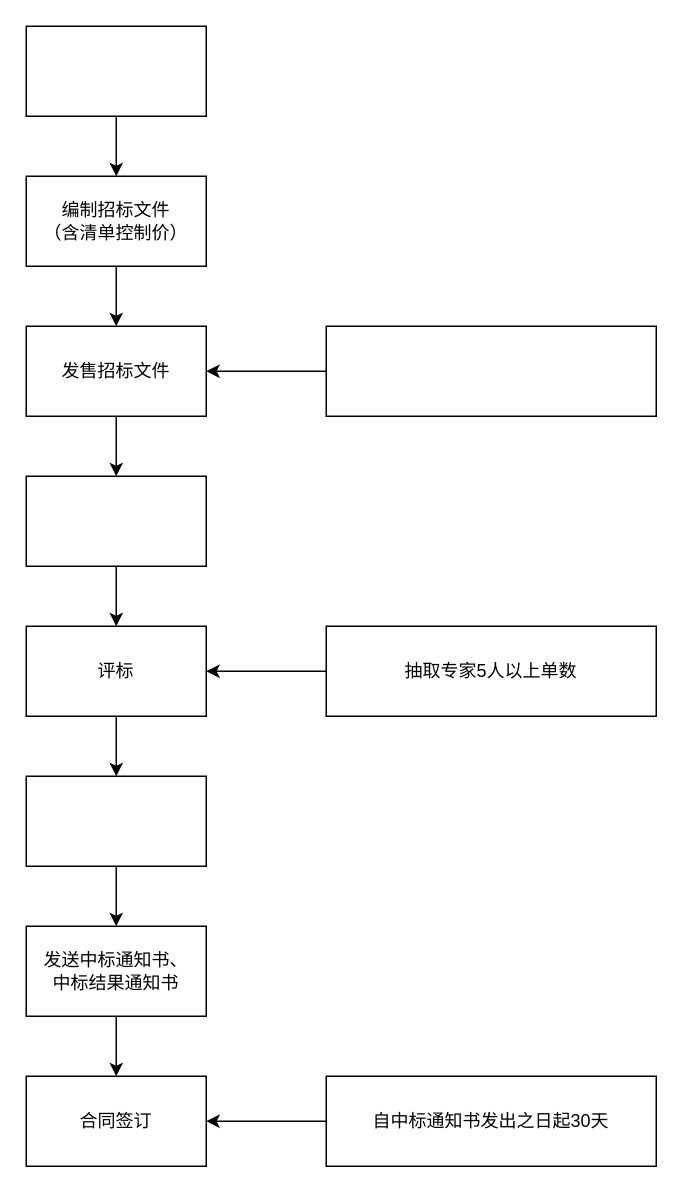
This 683x1193 diagram has some shape labels left out. Each missing label, with the centre of its shape:
"发布中标候选人公示" belongs at point 115,820.
"开标" belongs at point 115,520.
"自招标文件发出之日起至投标截止不少于20日（政府采购为工作日）" belongs at point 490,370.
"项目委托承接" belongs at point 115,70.
